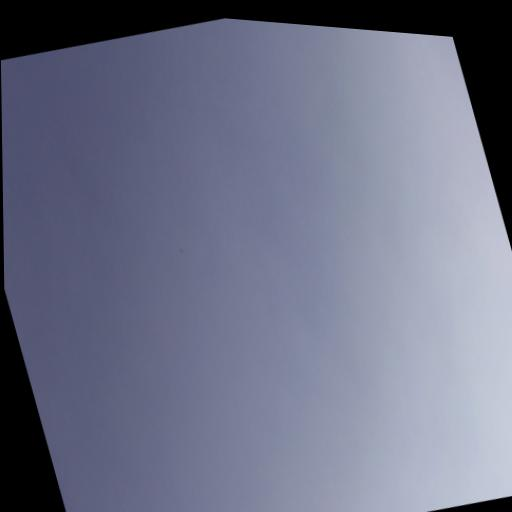drones: (179, 247, 184, 255)
